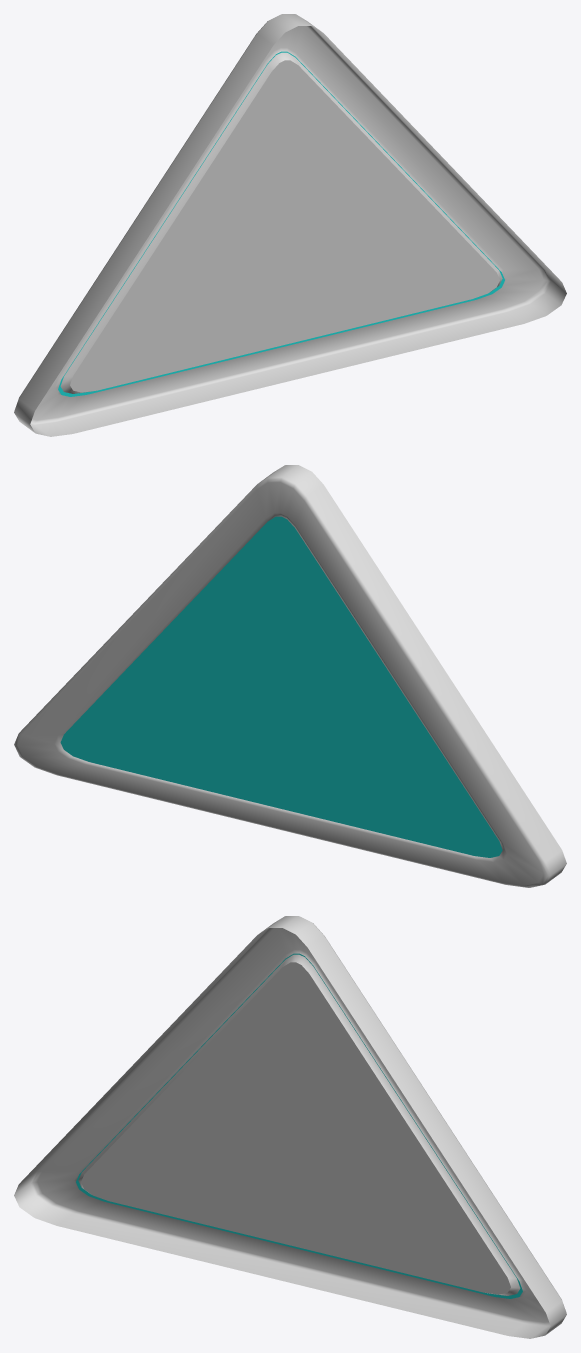
Rendered from ModuleFenetre  1.fbx.
The picture shows the model from 3 angles, top to bottom: view 1: azimuth 30°, elevation 25°; view 2: azimuth 150°, elevation 25°; view 3: azimuth 330°, elevation 25°; orthographic projection.
Visible parts, largest first — view 1: Cube.014, Cube.027; view 2: Cube.027, Cube.014; view 3: Cube.014, Cube.027.
Part boxes in pixels (x1,y1,x2,y2): Cube.014: [14, 14, 566, 436]; Cube.027: [58, 51, 504, 396]; Cube.027: [60, 516, 502, 857]; Cube.014: [14, 465, 566, 887]; Cube.014: [14, 916, 566, 1338]; Cube.027: [76, 953, 522, 1298].
Size of the model in its own units: 284 by 178 by 16.41.
